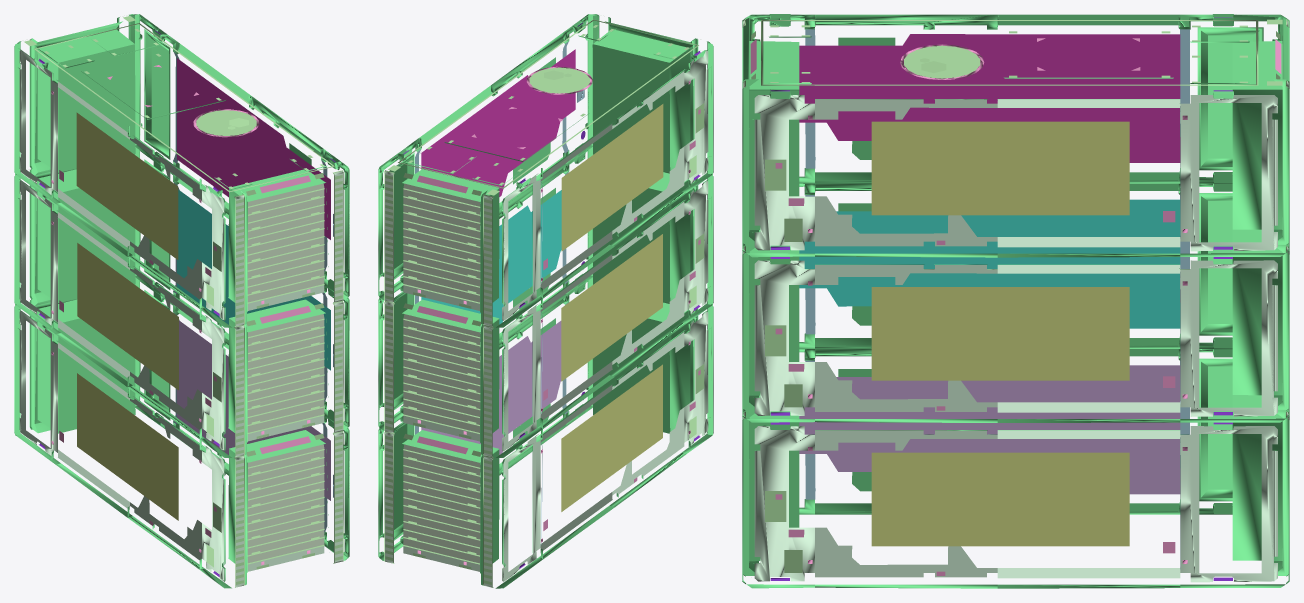
Rendered from storage_container_stack_1_a_lod1.glb.
3 renders of one model, left to right at view 1: azimuth 30°, elevation 25°; view 2: azimuth 150°, elevation 25°; view 3: azimuth 270°, elevation 25°, orthographic. The views are drawn at different scales.
Bounding box in the file's own units: 2.52 × 7.53 × 7.49.
